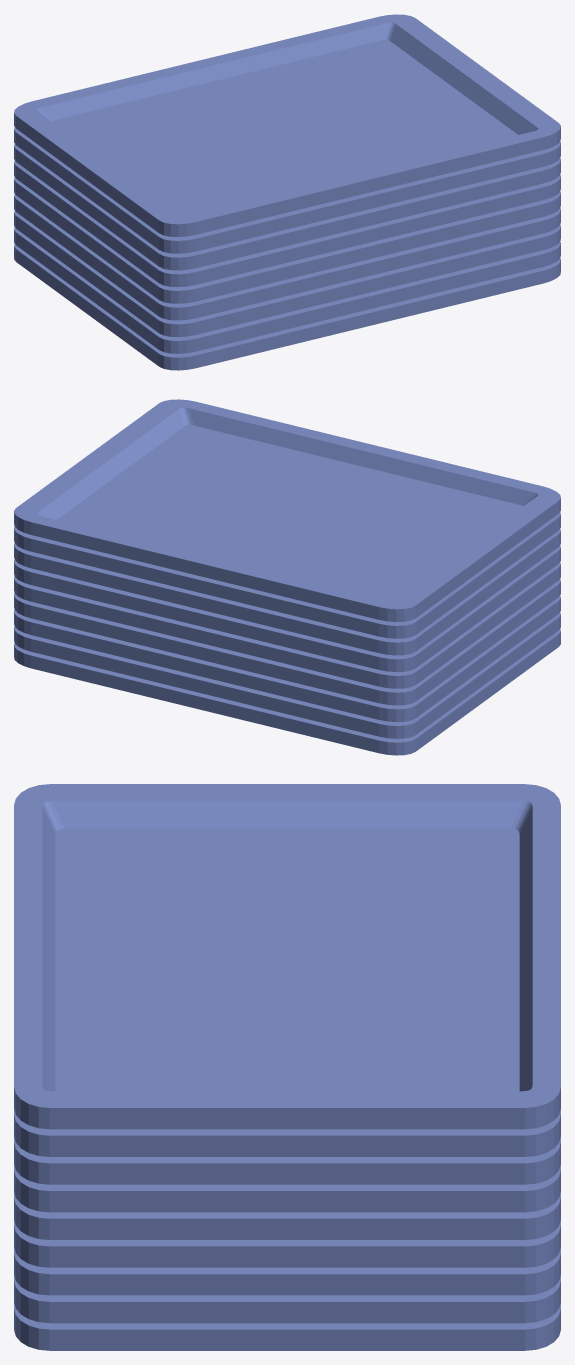
Rendered from pilha_bandejas2.glb.
The picture shows the model from 3 angles, top to bottom: view 1: azimuth 30°, elevation 25°; view 2: azimuth 150°, elevation 25°; view 3: azimuth 270°, elevation 25°; orthographic projection. The views are drawn at different scales.
Parts seen in each view (by area): view 1: pilhaBandejas; view 2: pilhaBandejas; view 3: pilhaBandejas.
Boxes of the visible parts, x1,y1,x2,y2 form: pilhaBandejas: (14, 14, 560, 370); pilhaBandejas: (14, 399, 560, 755); pilhaBandejas: (14, 784, 560, 1350).
Size of the model in its own units: 1.27 by 0.4429 by 0.9041.
